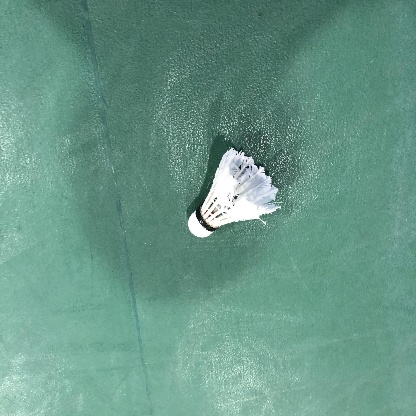ball_single: (188, 148, 281, 237)
